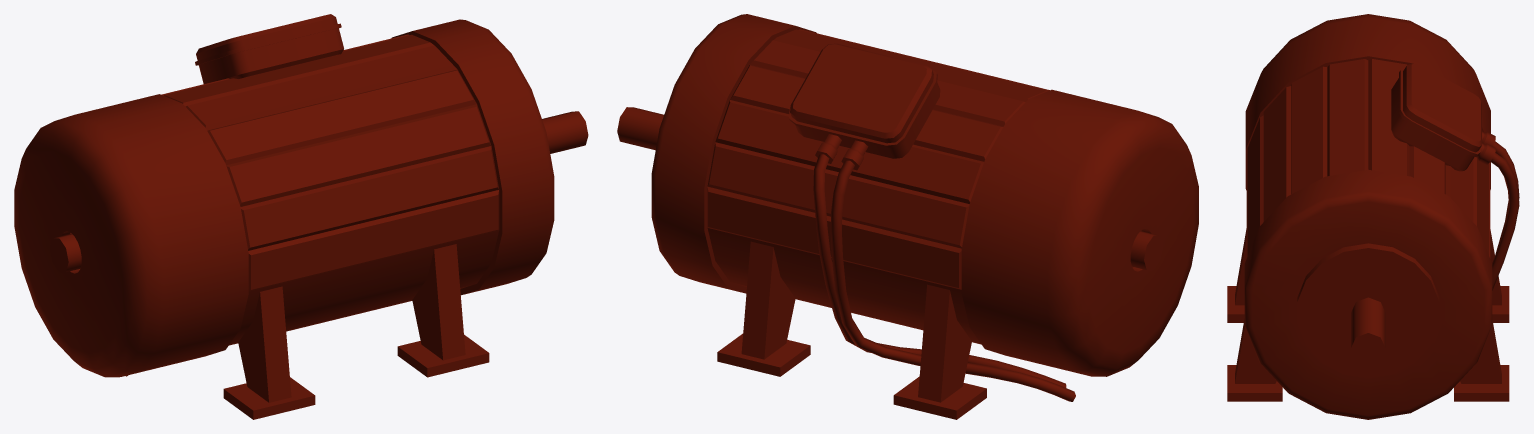
File: motor.FBX
3 views of the same model, side by side, from view 1: azimuth 30°, elevation 25°; view 2: azimuth 150°, elevation 25°; view 3: azimuth 270°, elevation 25° (orthographic). The views are drawn at different scales.
Visible parts, largest first — view 1: motor; view 2: motor; view 3: motor.
Boxes of the visible parts, x1,y1,x2,y2 form: motor: [14, 14, 588, 419]; motor: [617, 14, 1198, 419]; motor: [1227, 14, 1519, 419].
Bounding box in the file's own units: 73.26 × 40.62 × 38.43.
